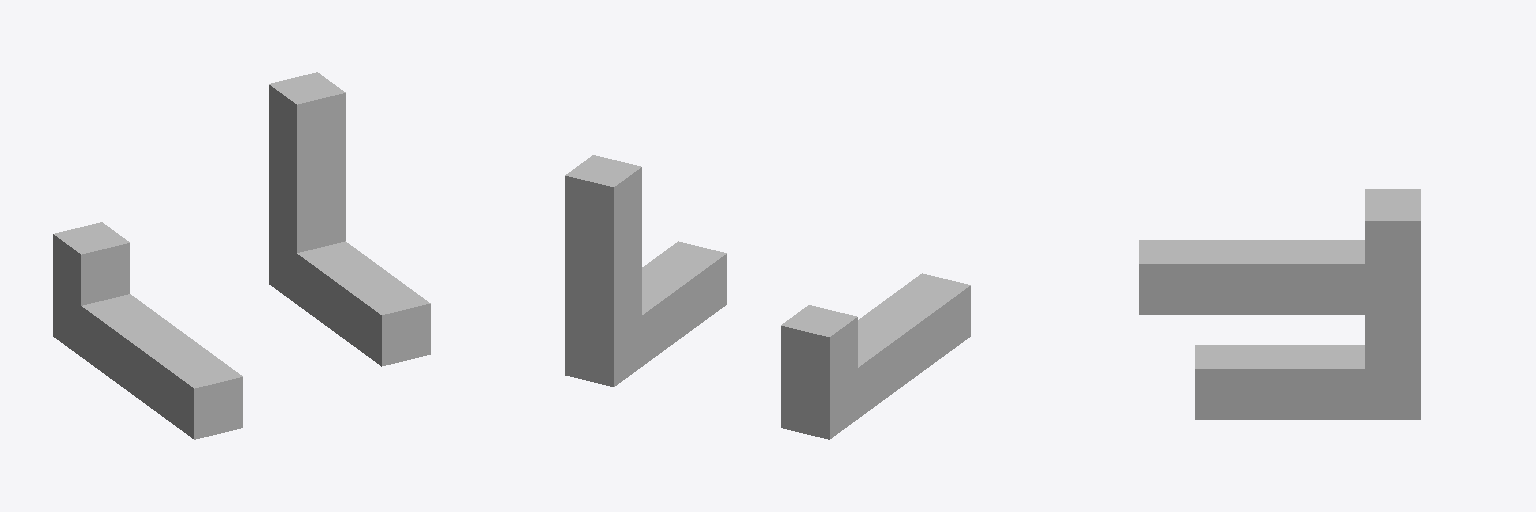
Rendered from metro salto.obj.
3 views of the same model, side by side, from view 1: azimuth 30°, elevation 25°; view 2: azimuth 150°, elevation 25°; view 3: azimuth 270°, elevation 25° (orthographic).
Visible parts, largest first — view 1: Cube (252), Cube (259), Cube (251), Cube (257), Cube (253), Cube (254), Cube (260), Cube (256), Cube (258), Cube (255), Cube (249); view 2: Cube (252), Cube (251), Cube (253), Cube (249), Cube (256), Cube (257), Cube (259), Cube (260), Cube (255), Cube (258), Cube (254); view 3: Cube (252), Cube (256), Cube (258), Cube (259), Cube (254), Cube (255), Cube (257), Cube (260), Cube (253).
Part boxes in pixels (x1,y1,x2,y2): Cube (252): (269, 131, 345, 303); Cube (259): (353, 283, 430, 366); Cube (251): (53, 222, 129, 305); Cube (257): (166, 356, 242, 439); Cube (253): (269, 72, 345, 150); Cube (254): (81, 294, 157, 377); Cube (260): (325, 262, 401, 344); Cube (256): (138, 335, 213, 418); Cube (258): (297, 241, 372, 324); Cube (255): (110, 315, 185, 397); Cube (249): (53, 286, 80, 356); Cube (252): (565, 214, 641, 386); Cube (251): (781, 305, 857, 388); Cube (253): (565, 155, 641, 232); Cube (249): (781, 368, 857, 439); Cube (256): (866, 294, 942, 377); Cube (257): (894, 273, 970, 356); Cube (259): (651, 241, 726, 324); Cube (260): (642, 262, 698, 344); Cube (255): (858, 315, 913, 397); Cube (258): (642, 288, 670, 366); Cube (254): (858, 341, 885, 418); Cube (252): (1365, 267, 1420, 419); Cube (256): (1195, 240, 1251, 314); Cube (258): (1308, 345, 1364, 419); Cube (259): (1195, 345, 1251, 419); Cube (254): (1308, 240, 1364, 314); Cube (255): (1252, 240, 1307, 314); Cube (257): (1139, 240, 1194, 314); Cube (260): (1252, 345, 1307, 419); Cube (253): (1365, 197, 1420, 266).
Bounding box in the file's own units: 5.4 × 3.9 × 5.